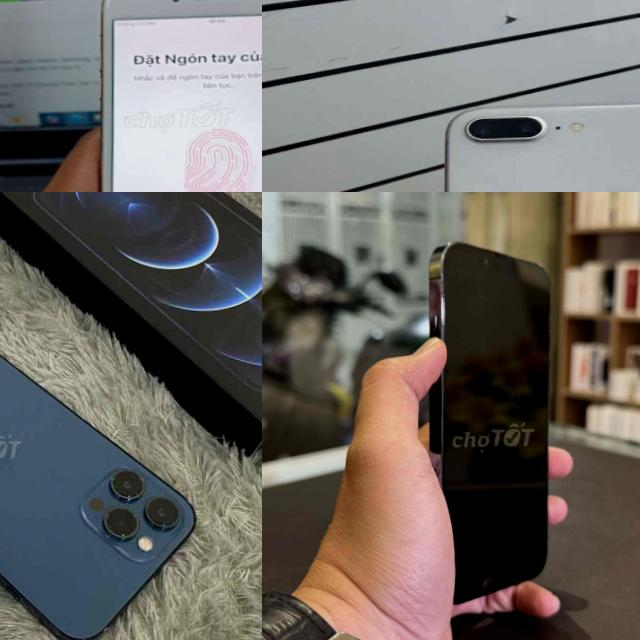gen_12_13: (0, 298, 199, 640), (412, 240, 562, 610)
gen_7_8: (69, 0, 262, 192), (433, 87, 640, 192)
